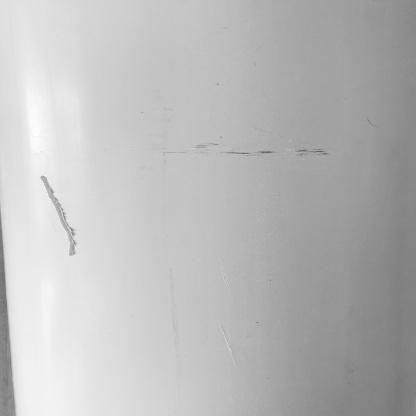sunshang: (35, 172, 79, 258)
